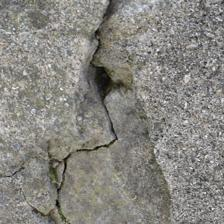Crack: (58, 137, 121, 218), (88, 32, 131, 133)
